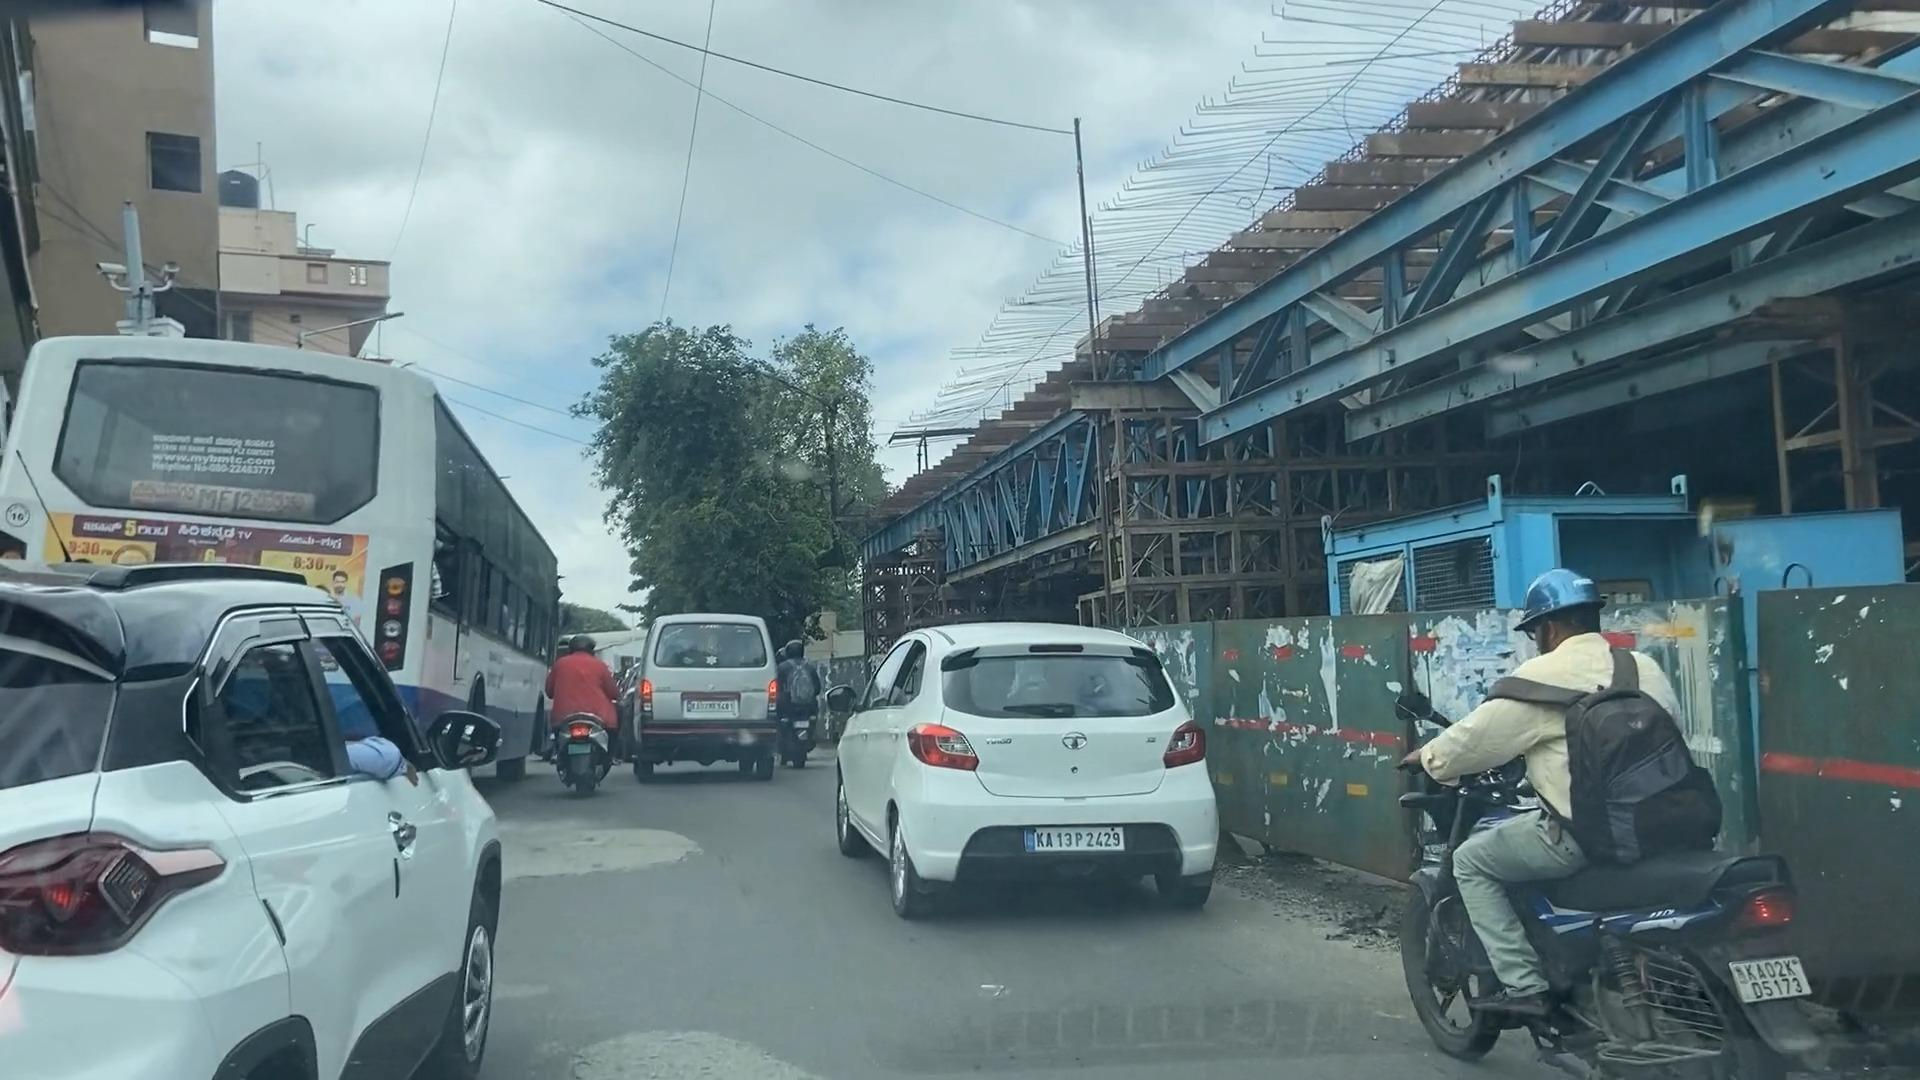LMV: (1443, 592, 1738, 1029), (880, 600, 1199, 911), (647, 608, 781, 770), (553, 630, 626, 795)
RoadDamages: (509, 810, 696, 887), (572, 1026, 818, 1080)
